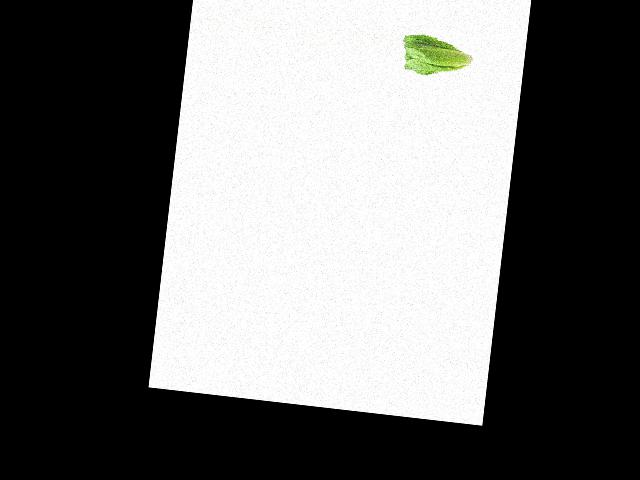lettuce: (399, 29, 476, 82)
